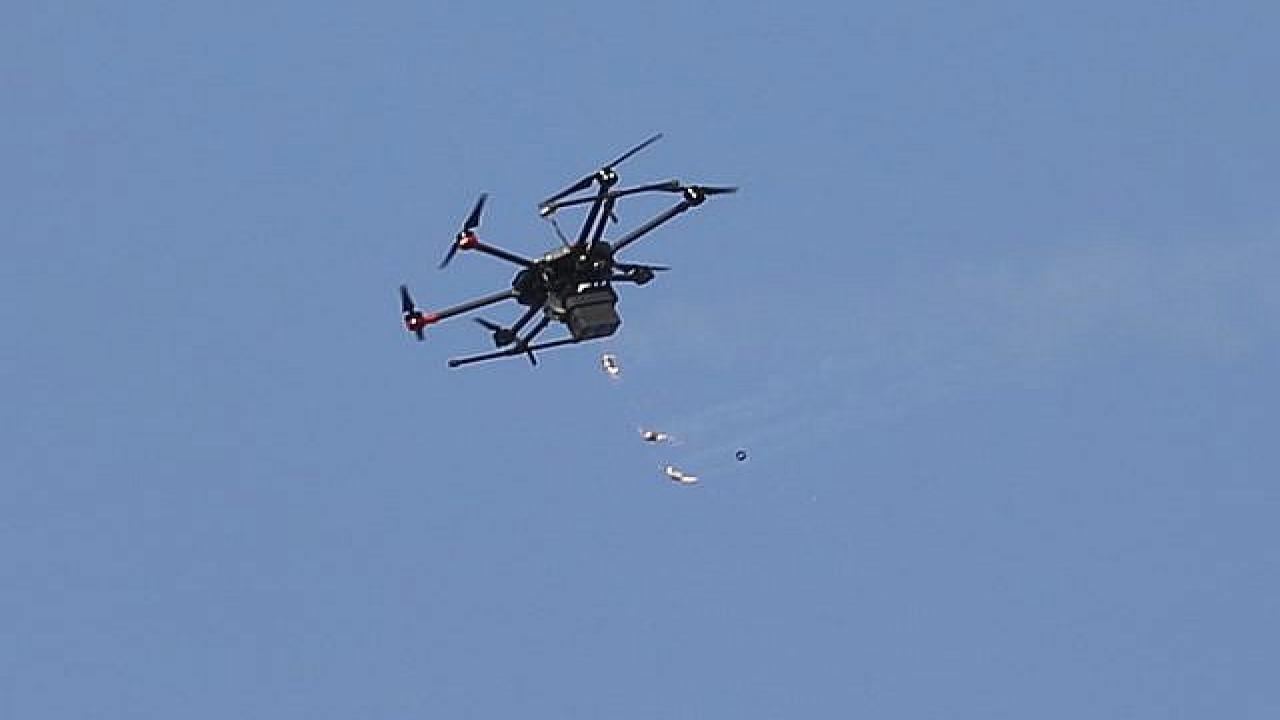Drone: (392, 128, 750, 381)
